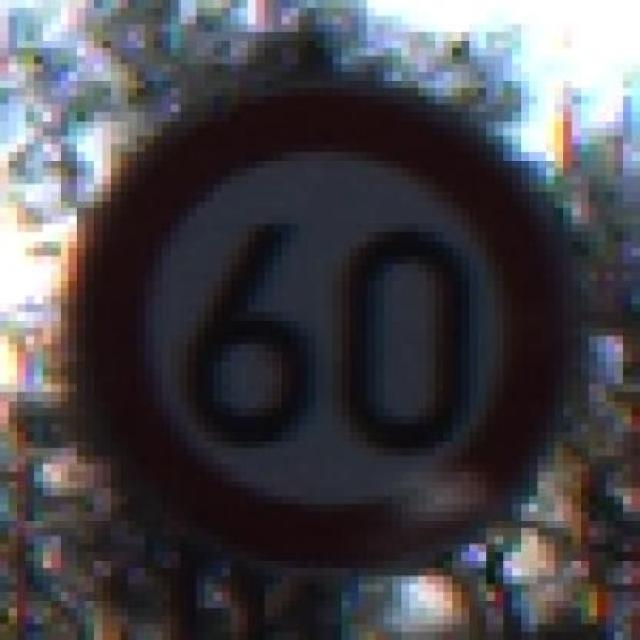forb_speed_over_60: (83, 87, 569, 564)
